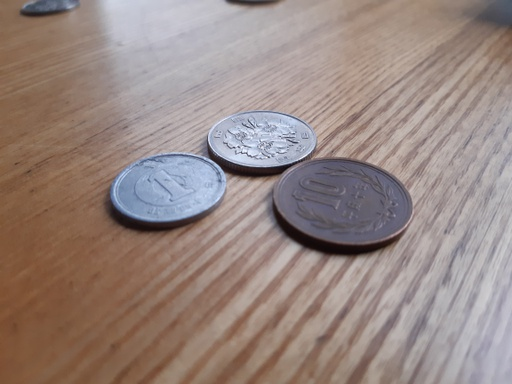100yen: (208, 112, 316, 175)
10yen: (274, 158, 412, 253)
1yen: (109, 152, 226, 227)
